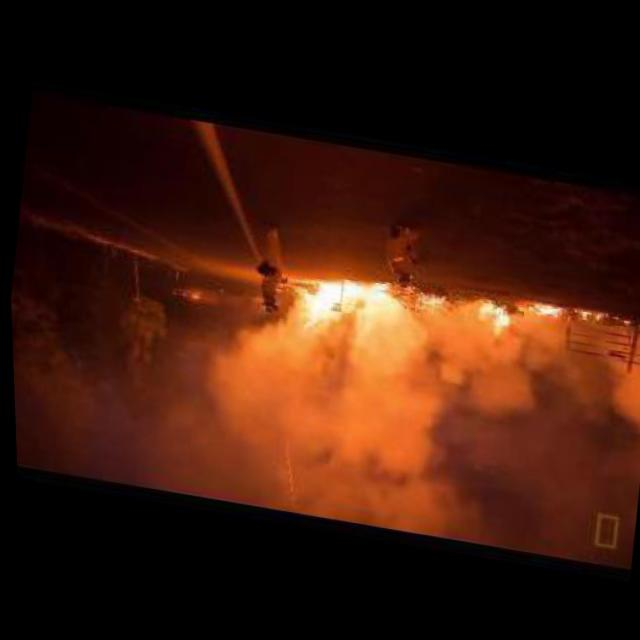Fire: (199, 291, 539, 511), (295, 269, 392, 341), (466, 296, 507, 335), (577, 308, 629, 324), (529, 298, 563, 317)
